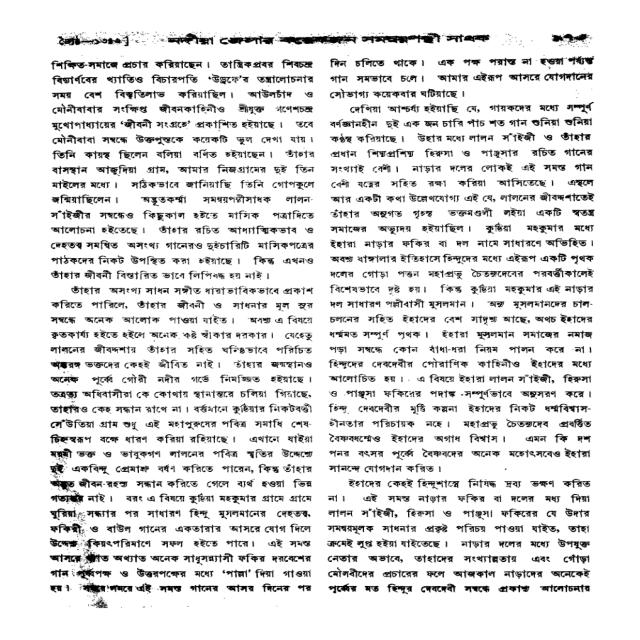page number: (547, 32, 593, 44)
paragraph: (325, 101, 598, 475), (44, 284, 319, 596), (47, 56, 318, 282), (323, 477, 595, 596), (327, 54, 600, 102)
text: (54, 34, 133, 49)
title: (163, 31, 494, 47)
